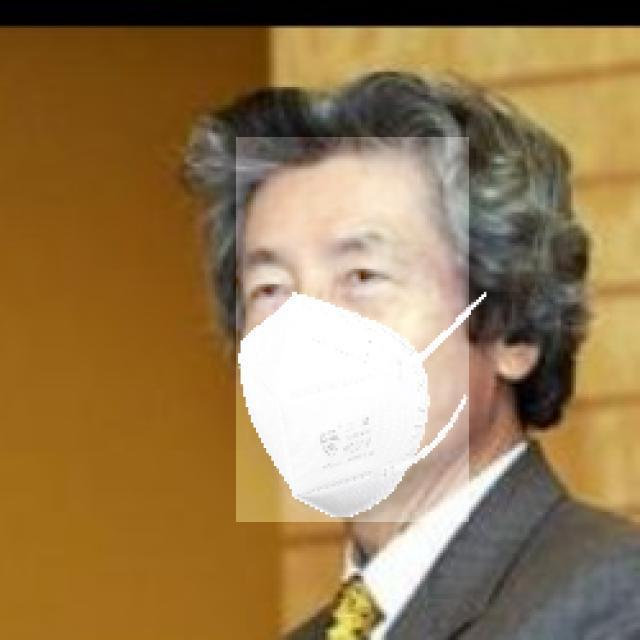kn95: (236, 137, 469, 522)
